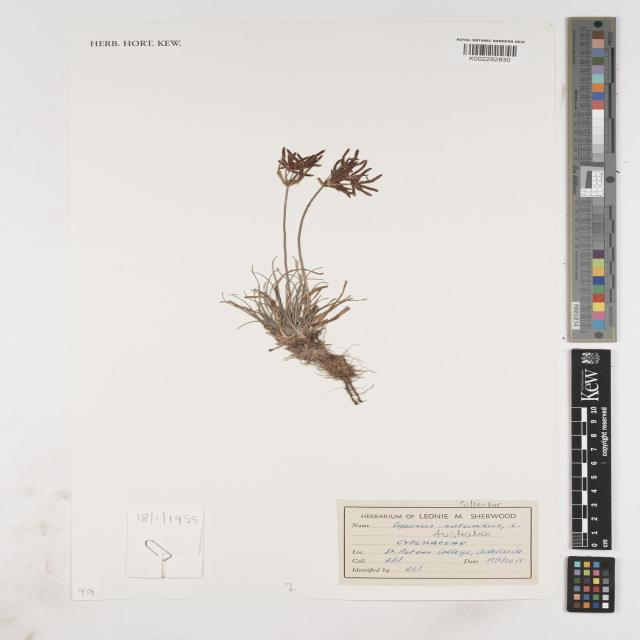cyperus: (270, 140, 388, 203)
